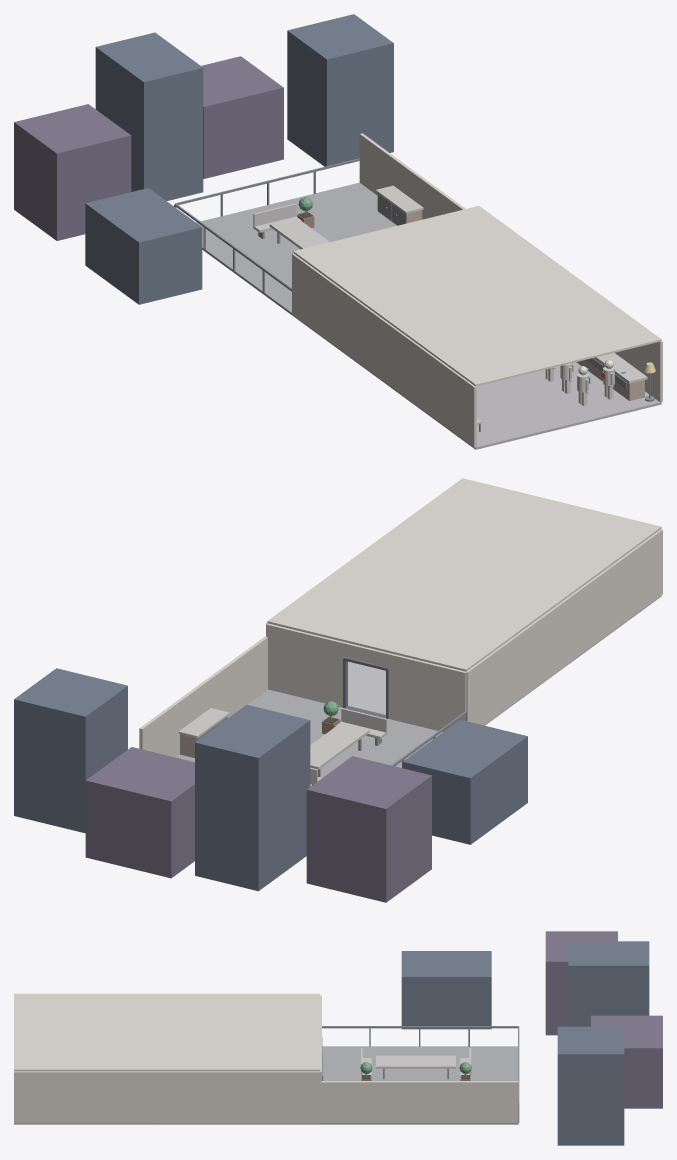
3 views of the same model, one above another, from view 1: azimuth 30°, elevation 25°; view 2: azimuth 150°, elevation 25°; view 3: azimuth 270°, elevation 25° (orthographic). The views are drawn at different scales.
Visible parts, largest first — view 1: Office ceiling, Lobby ceiling, City block 02, City block 04, City block 01, City block 05, Terrace floor, City block 03, Lobby floor, Office west wall, Lobby west wall, Terrace east privacy wall (+6 smaller); view 2: Office ceiling, City block 02, Lobby ceiling, City block 01, City block 04, City block 03, City block 05, Office west wall, Lobby west wall, Terrace east privacy wall, Office-terrace east wall, Office-terrace west wall (+6 smaller); view 3: Office ceiling, Lobby ceiling, Office east wall, Terrace east privacy wall, City block 04, Lobby east wall, City block 05, City block 02, Terrace floor, City block 03, City block 01, Terrace communal table top (+1 smaller).
Boxes of the visible parts, x1=… form: Office ceiling: x1=293, y1=206, x2=575, y2=323; Lobby ceiling: x1=390, y1=276, x2=661, y2=386; City block 02: x1=95, y1=32, x2=203, y2=200; City block 04: x1=287, y1=14, x2=393, y2=166; City block 01: x1=14, y1=104, x2=131, y2=240; City block 05: x1=85, y1=188, x2=202, y2=304; Terrace floor: x1=196, y1=182, x2=396, y2=315; City block 03: x1=201, y1=56, x2=283, y2=178; Lobby floor: x1=390, y1=362, x2=661, y2=449; Office west wall: x1=292, y1=253, x2=389, y2=384; Lobby west wall: x1=388, y1=324, x2=476, y2=447; Terrace east privacy wall: x1=359, y1=133, x2=465, y2=219; Office ceiling: x1=267, y1=545, x2=569, y2=671; City block 02: x1=195, y1=704, x2=310, y2=891; Lobby ceiling: x1=371, y1=478, x2=661, y2=595; City block 01: x1=306, y1=756, x2=431, y2=902; City block 04: x1=14, y1=668, x2=127, y2=833; City block 03: x1=85, y1=747, x2=194, y2=878; City block 05: x1=403, y1=720, x2=527, y2=844; Office west wall: x1=465, y1=596, x2=570, y2=725; Lobby west wall: x1=569, y1=529, x2=662, y2=661; Terrace east privacy wall: x1=139, y1=636, x2=267, y2=757; Office-terrace east wall: x1=266, y1=623, x2=344, y2=707; Office-terrace west wall: x1=387, y1=653, x2=466, y2=731; Office ceiling: x1=158, y1=993, x2=320, y2=1071; Lobby ceiling: x1=14, y1=993, x2=158, y2=1071; Office east wall: x1=158, y1=1071, x2=320, y2=1122; Terrace east privacy wall: x1=320, y1=1081, x2=518, y2=1122; City block 04: x1=557, y1=1026, x2=624, y2=1145; Lobby east wall: x1=14, y1=1071, x2=158, y2=1122; City block 05: x1=401, y1=951, x2=491, y2=1029; City block 02: x1=568, y1=941, x2=649, y2=1026; Terrace floor: x1=320, y1=1046, x2=518, y2=1124; City block 03: x1=591, y1=1015, x2=662, y2=1108; City block 01: x1=545, y1=931, x2=617, y2=1035; Terrace communal table top: x1=376, y1=1055, x2=455, y2=1068.
Size of the model in its own units: 18.7 by 6.5 by 36.
